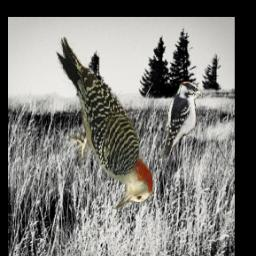Woodpecker: (55, 38, 157, 210), (159, 81, 207, 161)
